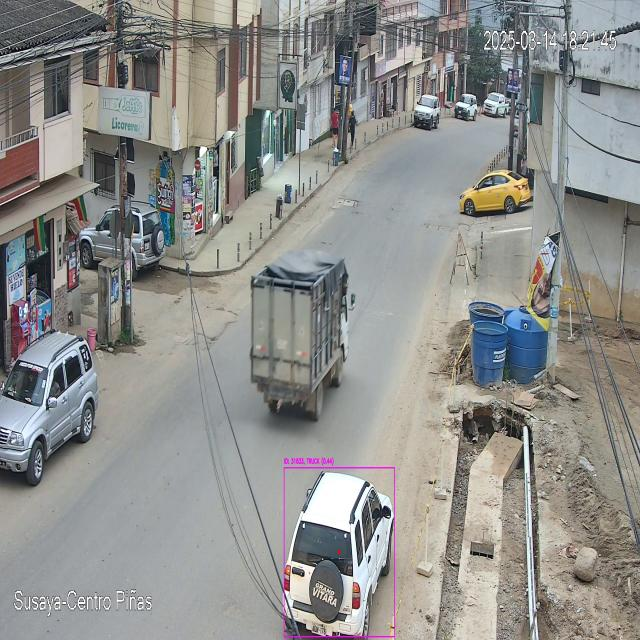SUV: (284, 472, 392, 640), (0, 332, 97, 486), (78, 203, 166, 281)
TRUCK: (250, 252, 351, 422)
